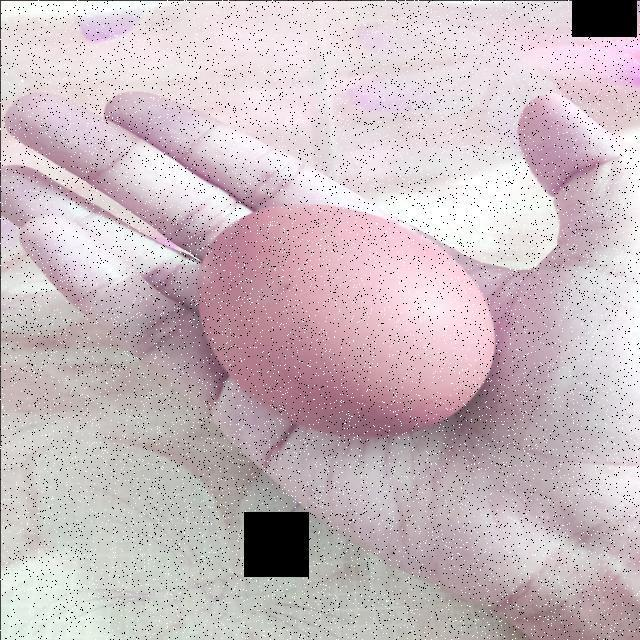egg: (191, 200, 499, 434)
